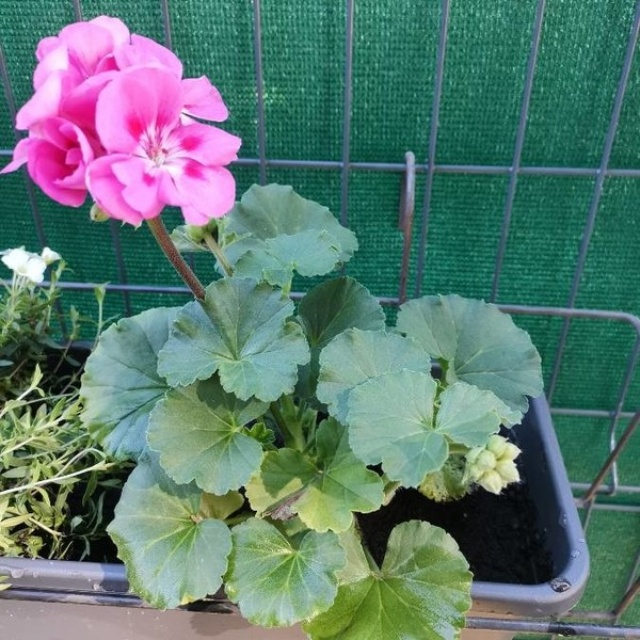obstacle: (14, 26, 578, 621)
